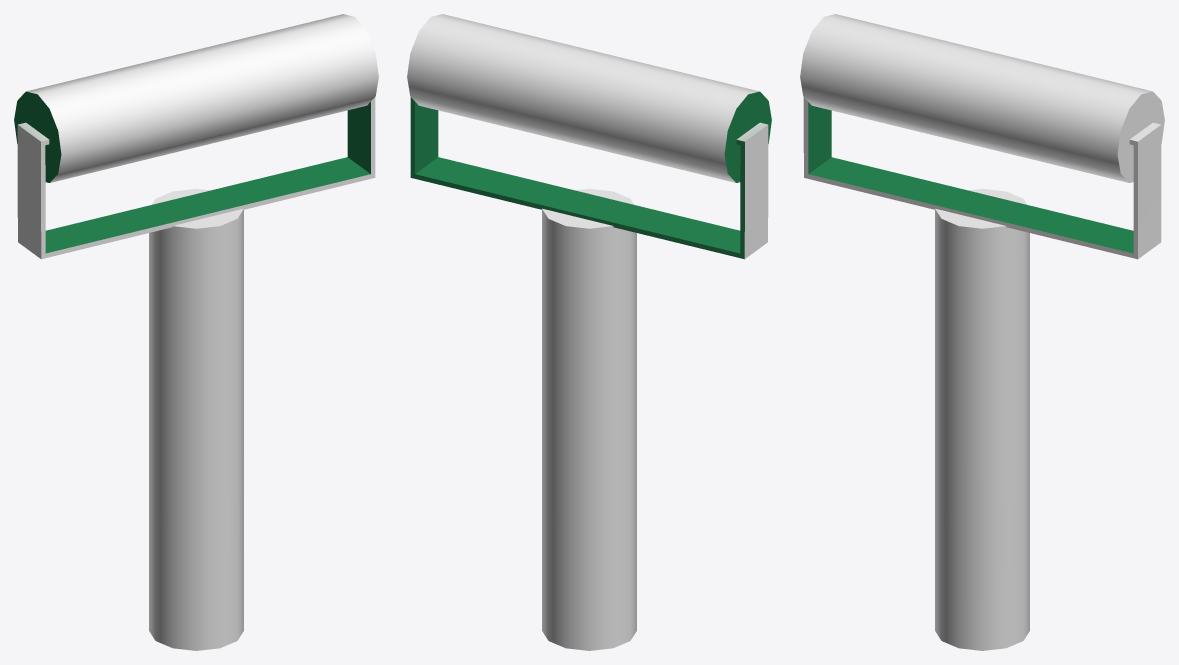
Rendered from 转膜滚筒.glb.
3 views of the same model, side by side, from view 1: azimuth 30°, elevation 25°; view 2: azimuth 150°, elevation 25°; view 3: azimuth 330°, elevation 25° (orthographic).
Parts seen in each view (by area): view 1: Cylinder233, Cylinder234, Line009; view 2: Cylinder233, Cylinder234, Line009; view 3: Cylinder233, Cylinder234, Line009.
Part boxes in pixels (bbox=[...]): Cylinder233: bbox=[149, 188, 243, 650]; Cylinder234: bbox=[14, 14, 378, 182]; Line009: bbox=[17, 97, 375, 259]; Cylinder233: bbox=[542, 188, 636, 650]; Cylinder234: bbox=[407, 14, 771, 182]; Line009: bbox=[410, 97, 768, 259]; Cylinder233: bbox=[935, 188, 1029, 650]; Cylinder234: bbox=[800, 14, 1164, 182]; Line009: bbox=[803, 97, 1161, 259].
Bounding box in the file's own units: 0.00208 × 0.00342 × 0.00051.
1 material, 1 textured.
